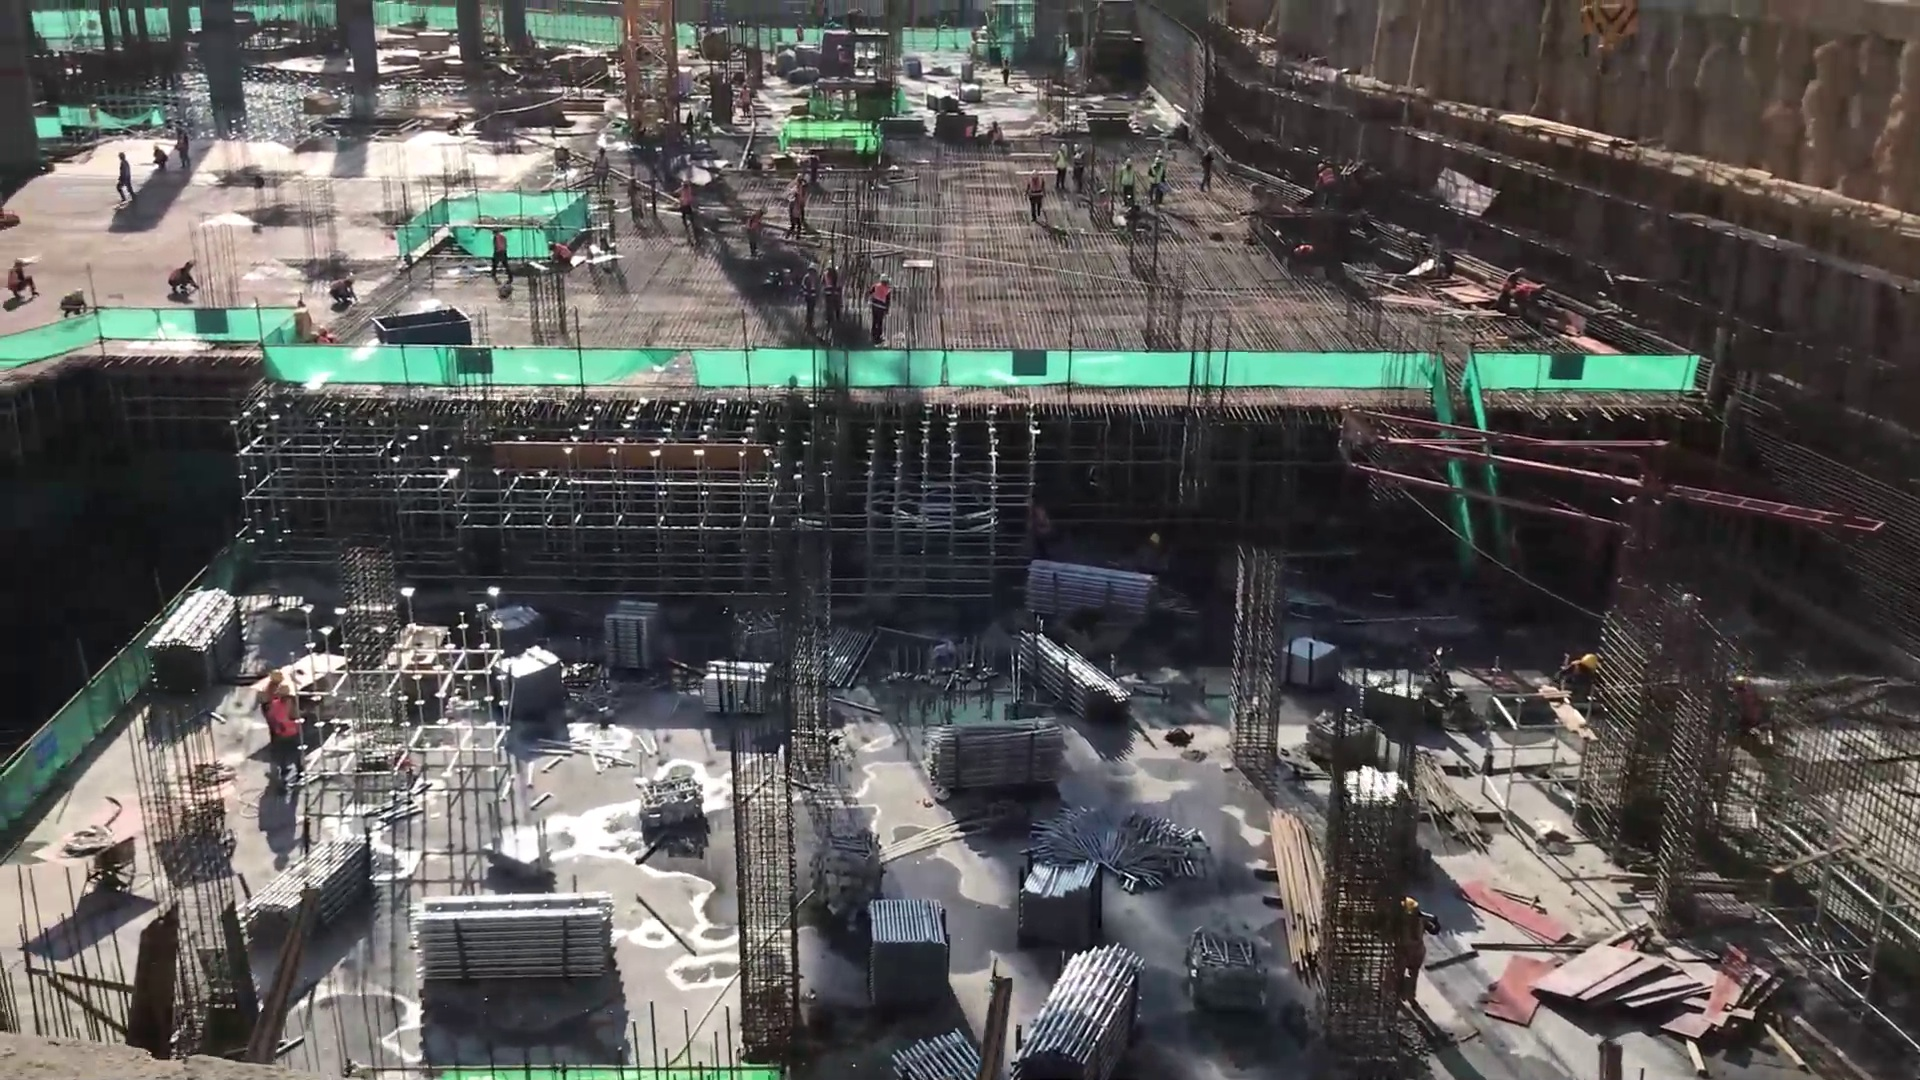helmet: (1400, 895, 1421, 916), (267, 666, 286, 688), (1579, 653, 1601, 673), (346, 270, 364, 288), (271, 686, 294, 699), (1151, 153, 1170, 167), (1121, 156, 1138, 170), (877, 272, 892, 287), (1025, 169, 1043, 181), (1314, 158, 1326, 174), (805, 259, 817, 273), (546, 237, 558, 253), (1071, 142, 1085, 153), (1058, 142, 1069, 153), (823, 260, 834, 271), (758, 205, 770, 215), (1207, 145, 1217, 156)
hook: (1573, 1, 1655, 95)
hopper: (371, 301, 475, 351)
person: (1396, 891, 1443, 1011), (265, 683, 304, 773), (866, 271, 900, 348), (1, 253, 43, 310), (795, 255, 823, 327), (1554, 650, 1600, 693), (819, 258, 847, 328), (253, 666, 289, 720), (487, 226, 517, 287), (162, 256, 204, 299), (1020, 164, 1052, 219), (328, 269, 363, 318), (113, 145, 140, 207), (741, 203, 773, 253), (1310, 156, 1340, 206), (1143, 151, 1171, 204), (57, 282, 93, 320), (1116, 155, 1139, 213), (676, 178, 702, 232), (589, 145, 617, 193), (1069, 139, 1088, 200), (546, 237, 574, 278), (1050, 142, 1071, 195), (171, 126, 196, 170), (1197, 145, 1218, 195), (149, 143, 173, 176)
scaffold: (405, 886, 624, 1002), (1010, 939, 1156, 1080), (240, 828, 382, 952), (139, 572, 253, 702), (1011, 626, 1139, 733), (923, 715, 1074, 804), (1011, 549, 1163, 628), (865, 888, 955, 1014), (1015, 851, 1113, 962), (494, 646, 568, 720), (602, 594, 665, 680), (889, 1023, 978, 1080)
vest: (264, 699, 302, 743), (871, 287, 892, 321), (825, 277, 846, 304), (1315, 171, 1337, 196), (799, 275, 819, 302), (256, 685, 279, 703), (677, 188, 694, 214), (595, 157, 614, 178), (495, 235, 509, 262), (1146, 167, 1166, 185), (1029, 181, 1046, 201), (1119, 170, 1137, 187), (556, 245, 573, 263), (1071, 156, 1086, 172), (1054, 153, 1065, 172)
